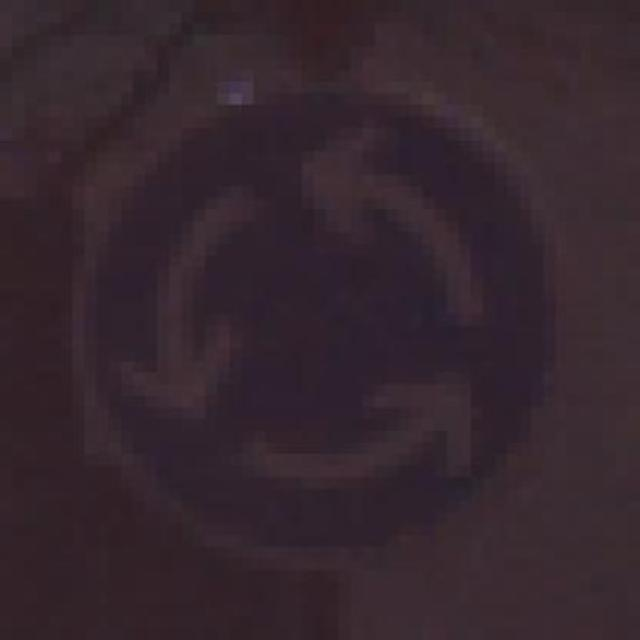Round-About: (60, 46, 568, 571)
